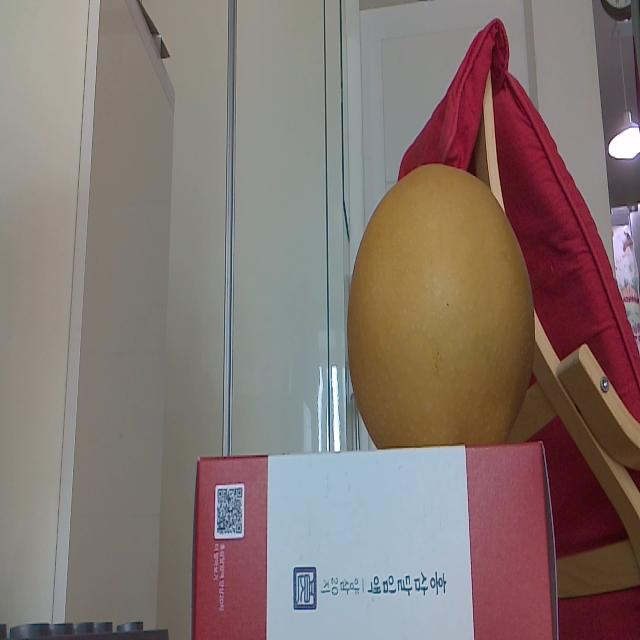pear: (346, 161, 534, 450)
